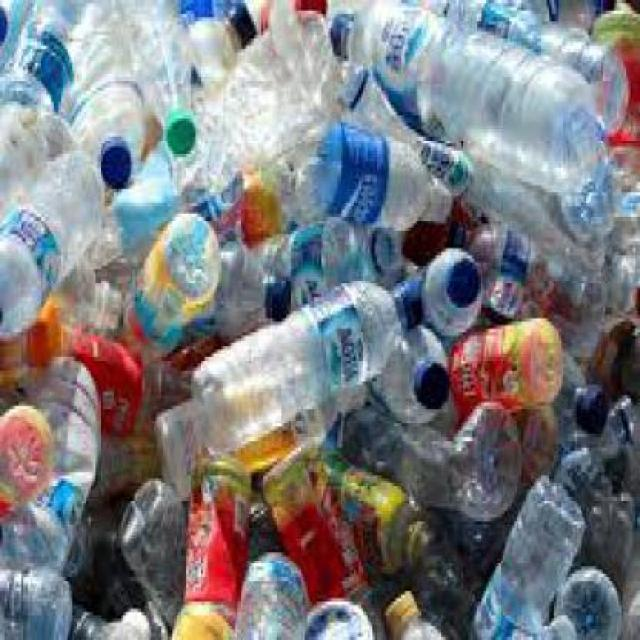PLASTIC: (0, 0, 638, 637), (330, 0, 592, 189), (192, 270, 416, 455), (174, 7, 334, 210), (396, 0, 624, 134), (152, 377, 366, 497), (258, 434, 384, 637), (446, 213, 603, 353), (333, 398, 519, 514), (0, 353, 98, 573), (0, 286, 138, 433), (0, 150, 98, 335), (470, 472, 578, 637), (288, 112, 447, 220), (332, 56, 468, 182), (62, 0, 142, 189), (121, 206, 216, 357), (310, 451, 428, 571), (112, 0, 193, 154), (98, 354, 191, 486), (116, 476, 184, 633), (182, 452, 244, 619), (266, 217, 388, 300), (391, 514, 472, 637), (186, 234, 285, 329), (0, 97, 71, 228), (67, 496, 142, 616), (553, 459, 633, 566), (365, 322, 447, 426), (109, 133, 180, 241), (0, 0, 63, 111), (230, 549, 307, 637), (177, 0, 251, 91), (558, 388, 638, 468), (0, 398, 52, 521), (592, 7, 638, 136), (547, 342, 605, 444), (556, 136, 615, 235), (548, 559, 620, 636), (421, 241, 477, 336), (0, 563, 68, 637), (592, 312, 638, 394), (258, 1, 372, 34), (512, 402, 558, 476), (300, 591, 371, 637), (230, 176, 279, 242), (168, 591, 235, 637), (598, 238, 638, 312), (193, 175, 239, 238), (610, 133, 638, 235), (619, 517, 638, 637), (440, 245, 480, 297), (409, 357, 449, 409), (572, 381, 610, 430), (95, 130, 128, 185), (246, 493, 277, 549), (391, 270, 418, 328), (538, 591, 572, 637), (64, 598, 104, 636), (379, 580, 412, 626), (221, 0, 254, 46), (387, 609, 442, 636), (160, 108, 194, 150), (261, 270, 285, 328), (326, 7, 351, 53), (449, 217, 463, 238), (288, 1, 328, 7), (0, 0, 4, 38)
